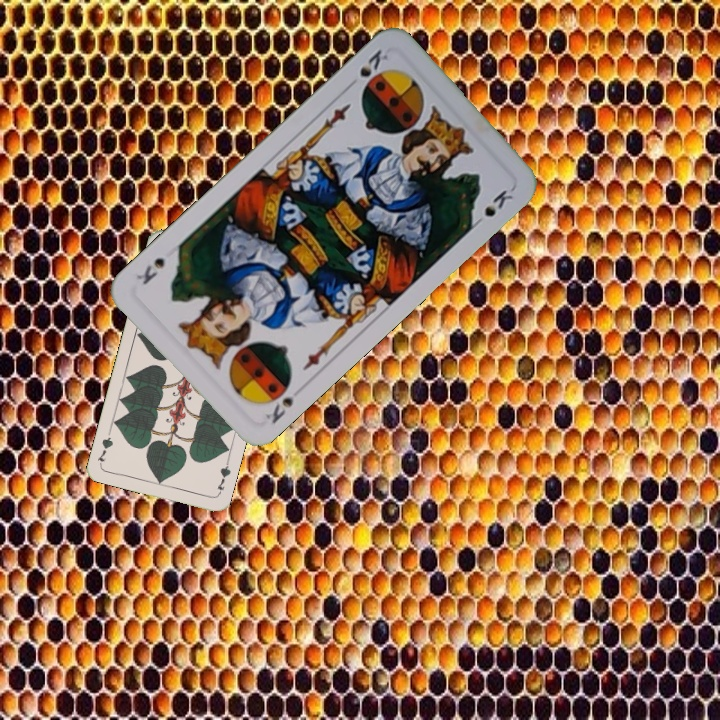G7: (212, 458, 233, 498)
SK: (343, 45, 391, 91), (261, 393, 296, 427)
